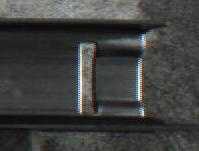press: (27, 15, 185, 134)
